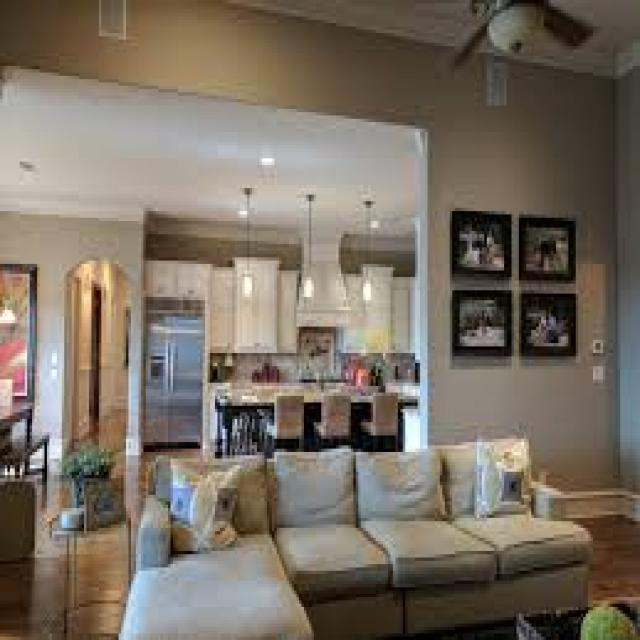Chair: (268, 387, 312, 459), (314, 382, 354, 452), (362, 386, 402, 452)
Lamp: (234, 260, 256, 298), (299, 264, 320, 300), (360, 274, 380, 304)
Sofa: (134, 436, 586, 633), (111, 439, 312, 640)
Table: (207, 372, 423, 458), (35, 457, 136, 626)
